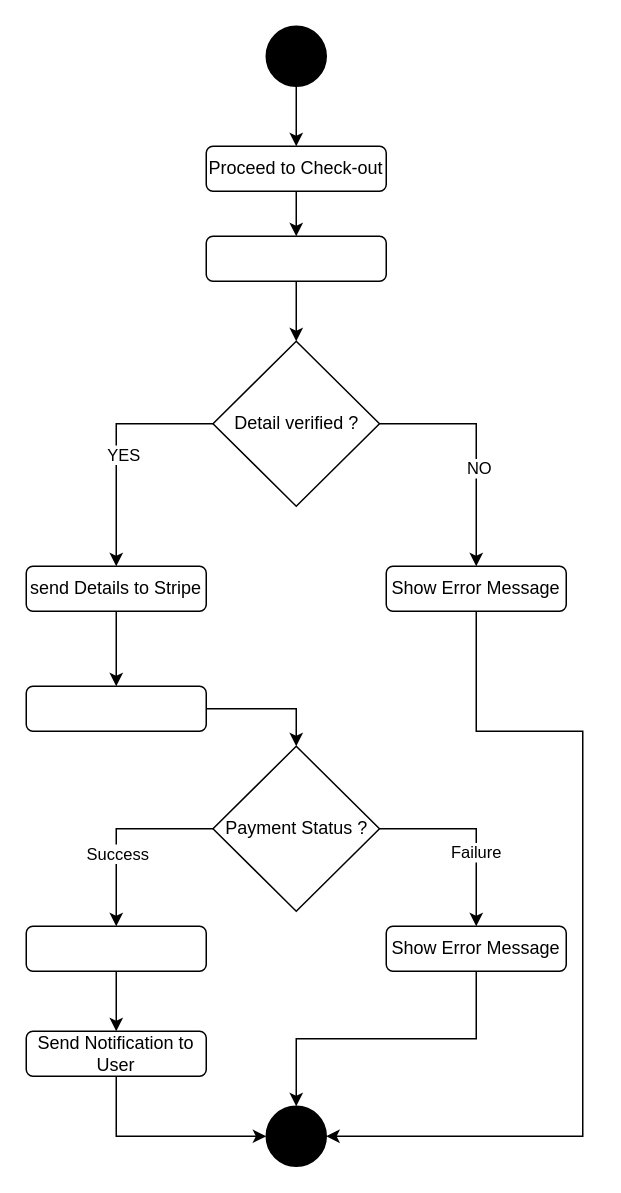
This 621x1193 diagram has some shape labels left out. Here are the shapes that lost their labels. From the top down, the centre of each, then its label:
At point (295, 258): "Add Payment Details".
At point (115, 708): "Send Payment Details to Stripe".
At point (115, 948): "Update Order Status".
